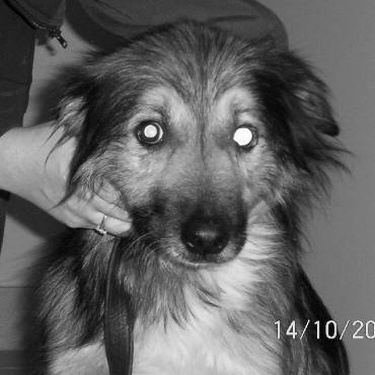dog: (16, 15, 359, 371)
